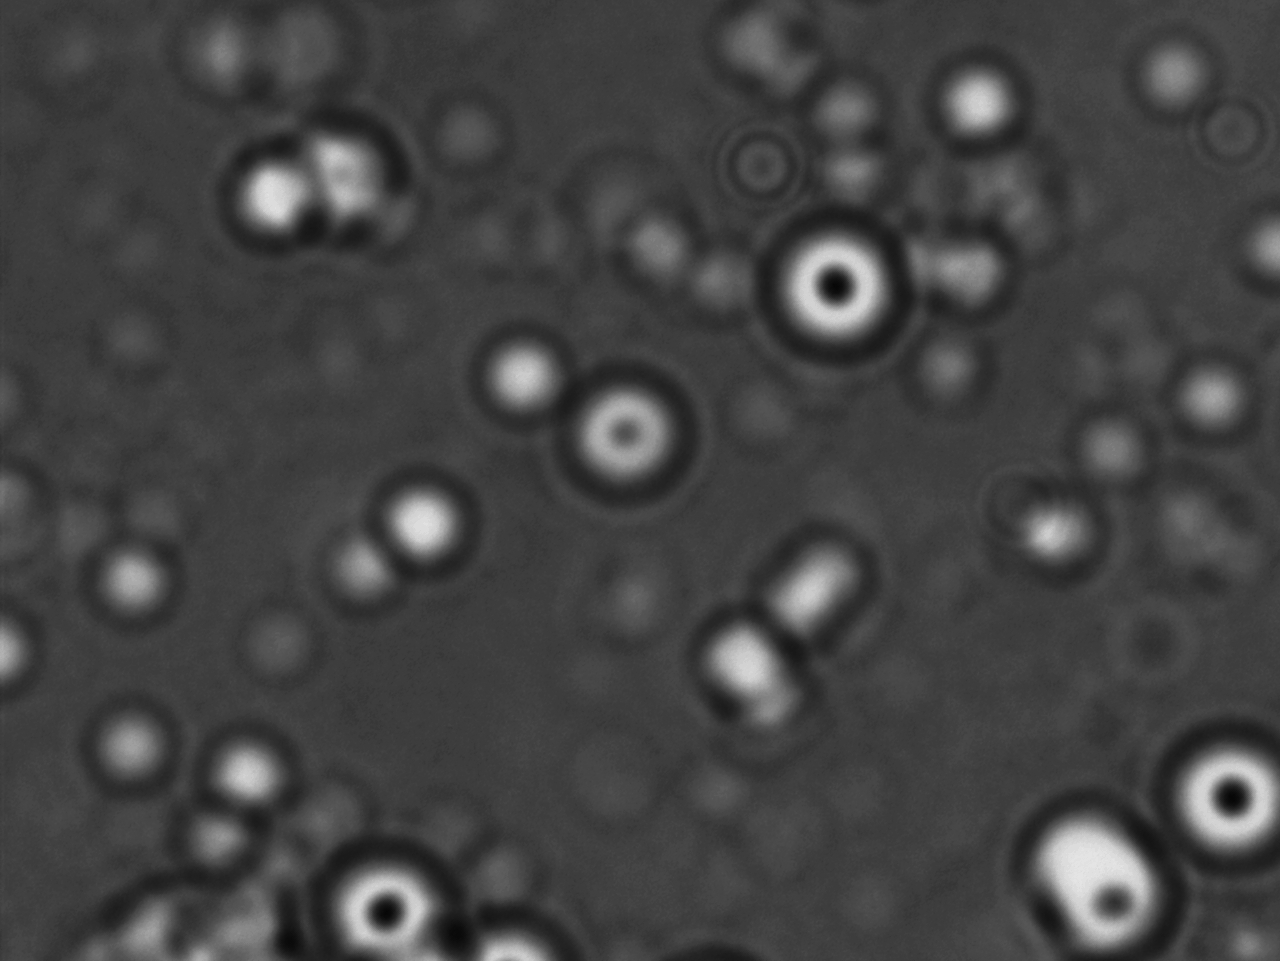depth:32: (753, 197, 910, 359), (1153, 710, 1280, 868), (321, 835, 452, 961)
